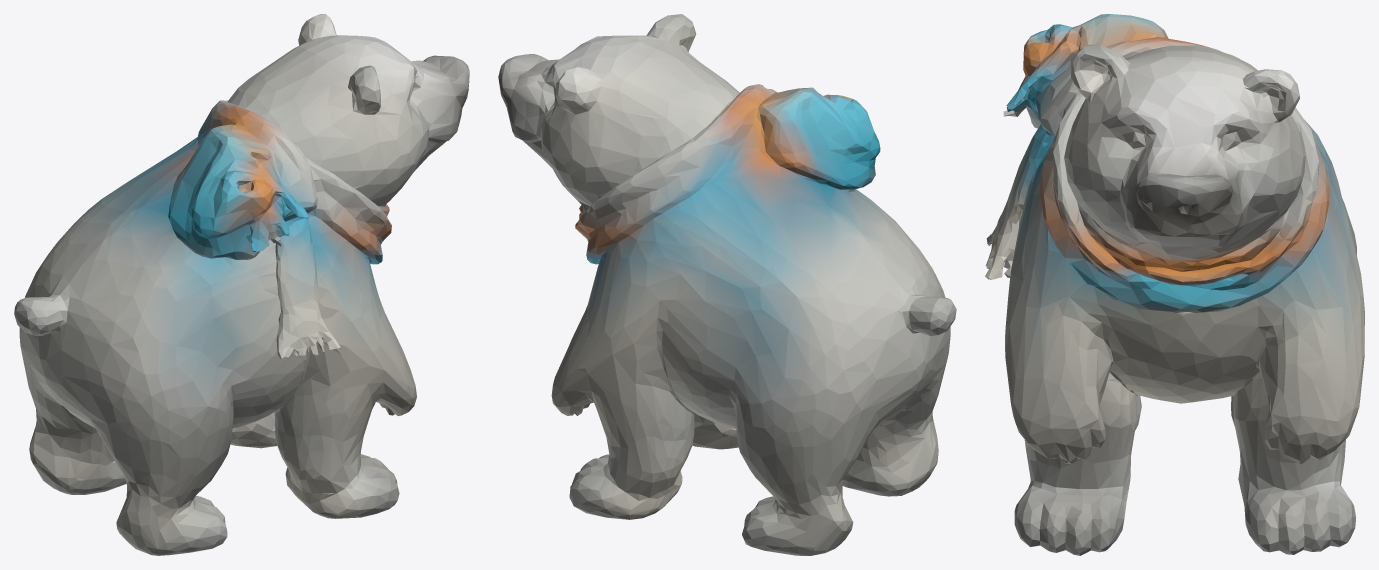
File: kutupayisi.glb
The picture shows the model from 3 angles, left to right: view 1: azimuth 30°, elevation 25°; view 2: azimuth 150°, elevation 25°; view 3: azimuth 270°, elevation 25°; orthographic projection. The views are drawn at different scales.
Parts seen in each view (by area): view 1: geometry_0; view 2: geometry_0; view 3: geometry_0.
Part boxes in pixels (x1,y1,x2,y2): geometry_0: [14, 14, 469, 555]; geometry_0: [498, 14, 956, 555]; geometry_0: [985, 14, 1364, 555].
Bounding box in the file's own units: 1.11 × 1 × 0.6788.
